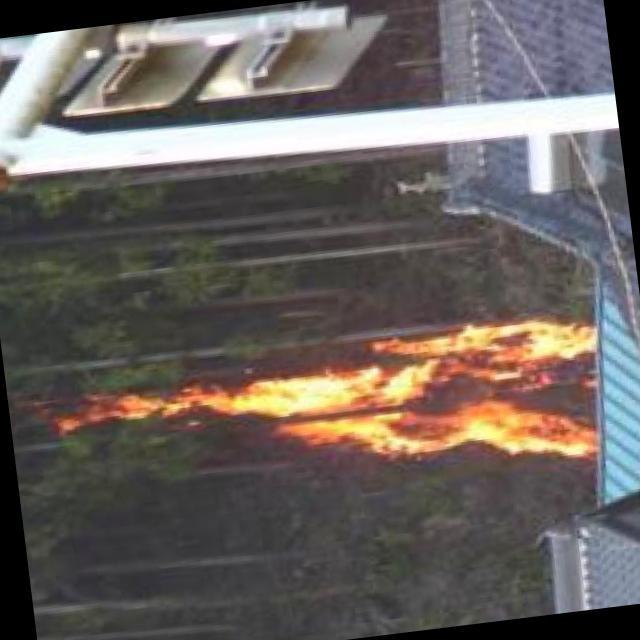Fire: (76, 300, 617, 518)
